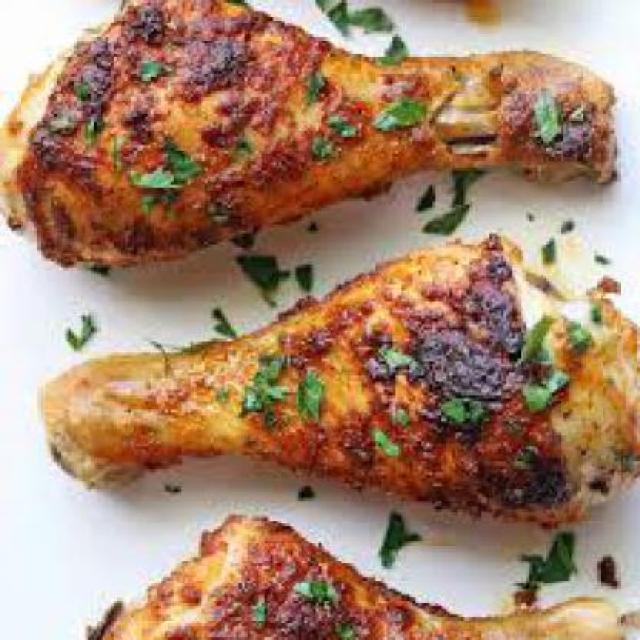Frango: (5, 8, 638, 638)
